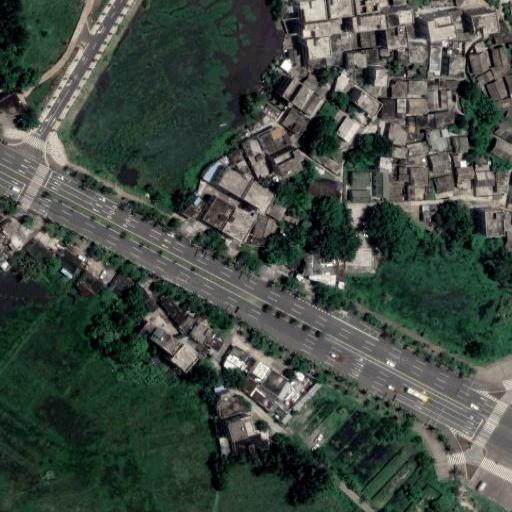building: (296, 248, 344, 286), (242, 135, 277, 183), (219, 208, 256, 244), (206, 386, 241, 421), (280, 104, 314, 138), (252, 91, 286, 125), (217, 166, 252, 199), (241, 181, 276, 214), (202, 196, 235, 231), (193, 151, 224, 185), (169, 343, 200, 375), (174, 186, 204, 219), (339, 243, 373, 272), (270, 144, 302, 174), (231, 434, 270, 458), (57, 249, 85, 280), (301, 18, 342, 39), (75, 271, 106, 298), (258, 126, 286, 154), (428, 16, 457, 43), (483, 76, 510, 104), (471, 11, 501, 36), (308, 178, 342, 200), (302, 73, 330, 98), (352, 13, 387, 32), (356, 91, 382, 116), (335, 116, 360, 142), (290, 84, 315, 110), (224, 344, 250, 369), (263, 370, 288, 396), (153, 330, 180, 354), (306, 36, 334, 59), (27, 240, 52, 265), (485, 210, 506, 239), (417, 200, 440, 226), (0, 231, 19, 262), (303, 93, 326, 118), (489, 138, 512, 162), (186, 321, 210, 344), (331, 33, 357, 53), (388, 26, 410, 49), (253, 215, 275, 238), (281, 78, 302, 101), (113, 274, 134, 297), (429, 130, 450, 152), (489, 60, 512, 80), (387, 124, 407, 147), (265, 202, 286, 223), (227, 420, 248, 441), (429, 152, 451, 172), (434, 174, 456, 194), (385, 10, 414, 25), (409, 40, 427, 63), (468, 53, 488, 73), (494, 121, 512, 143), (322, 156, 342, 174), (374, 173, 389, 197), (408, 80, 427, 98), (175, 312, 194, 330), (491, 46, 507, 67), (429, 47, 442, 72), (251, 361, 269, 379), (408, 97, 427, 114), (410, 168, 429, 185), (348, 52, 368, 68), (449, 57, 465, 77), (135, 284, 152, 302), (162, 298, 179, 316), (475, 171, 494, 187), (435, 112, 456, 126), (359, 30, 376, 47), (391, 81, 408, 98), (248, 389, 266, 405), (325, 52, 344, 67), (475, 71, 494, 86), (373, 70, 390, 86), (456, 166, 475, 180), (351, 172, 371, 185), (240, 377, 256, 393), (501, 73, 512, 96), (308, 57, 326, 71), (494, 31, 512, 45), (410, 142, 428, 156), (438, 90, 451, 109), (383, 98, 395, 118), (408, 185, 424, 200), (456, 136, 469, 154), (391, 145, 409, 158), (438, 79, 457, 91), (350, 189, 369, 201), (379, 157, 393, 173), (279, 382, 292, 399), (141, 297, 155, 312), (363, 49, 379, 62), (504, 209, 512, 234), (427, 91, 438, 109), (475, 159, 491, 171), (245, 419, 256, 436), (474, 42, 486, 55), (475, 187, 492, 196), (398, 51, 410, 63), (399, 168, 410, 181), (397, 98, 406, 113), (288, 50, 297, 65), (416, 117, 429, 127), (408, 118, 417, 132), (446, 48, 459, 57), (428, 113, 436, 127), (452, 155, 461, 167), (151, 327, 160, 339), (427, 82, 438, 91)
